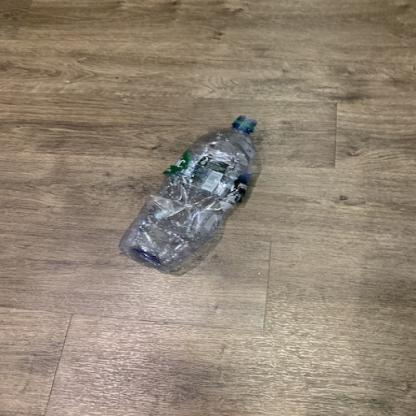trash: (117, 114, 264, 276)
